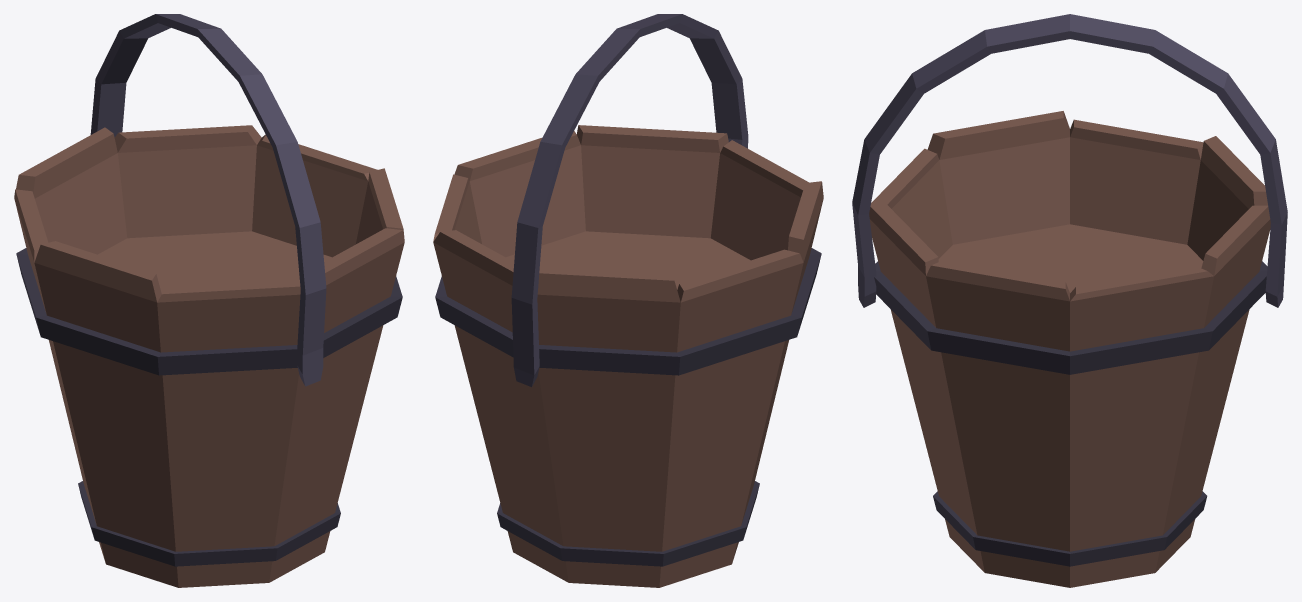
Rendered from cubo.fbx.
3 views of the same model, side by side, from view 1: azimuth 30°, elevation 25°; view 2: azimuth 150°, elevation 25°; view 3: azimuth 270°, elevation 25° (orthographic).
Visible parts, largest first — view 1: Bucket, WaterLayer; view 2: Bucket, WaterLayer; view 3: Bucket, WaterLayer.
Boxes of the visible parts, x1,y1,x2,y2 form: Bucket: (14,14,404,587); WaterLayer: (98,231,331,293); Bucket: (433,14,823,587); WaterLayer: (506,231,750,289); Bucket: (852,14,1287,587); WaterLayer: (938,224,1203,292).
Bounding box in the file's own units: 37.82 × 52.94 × 40.41.
